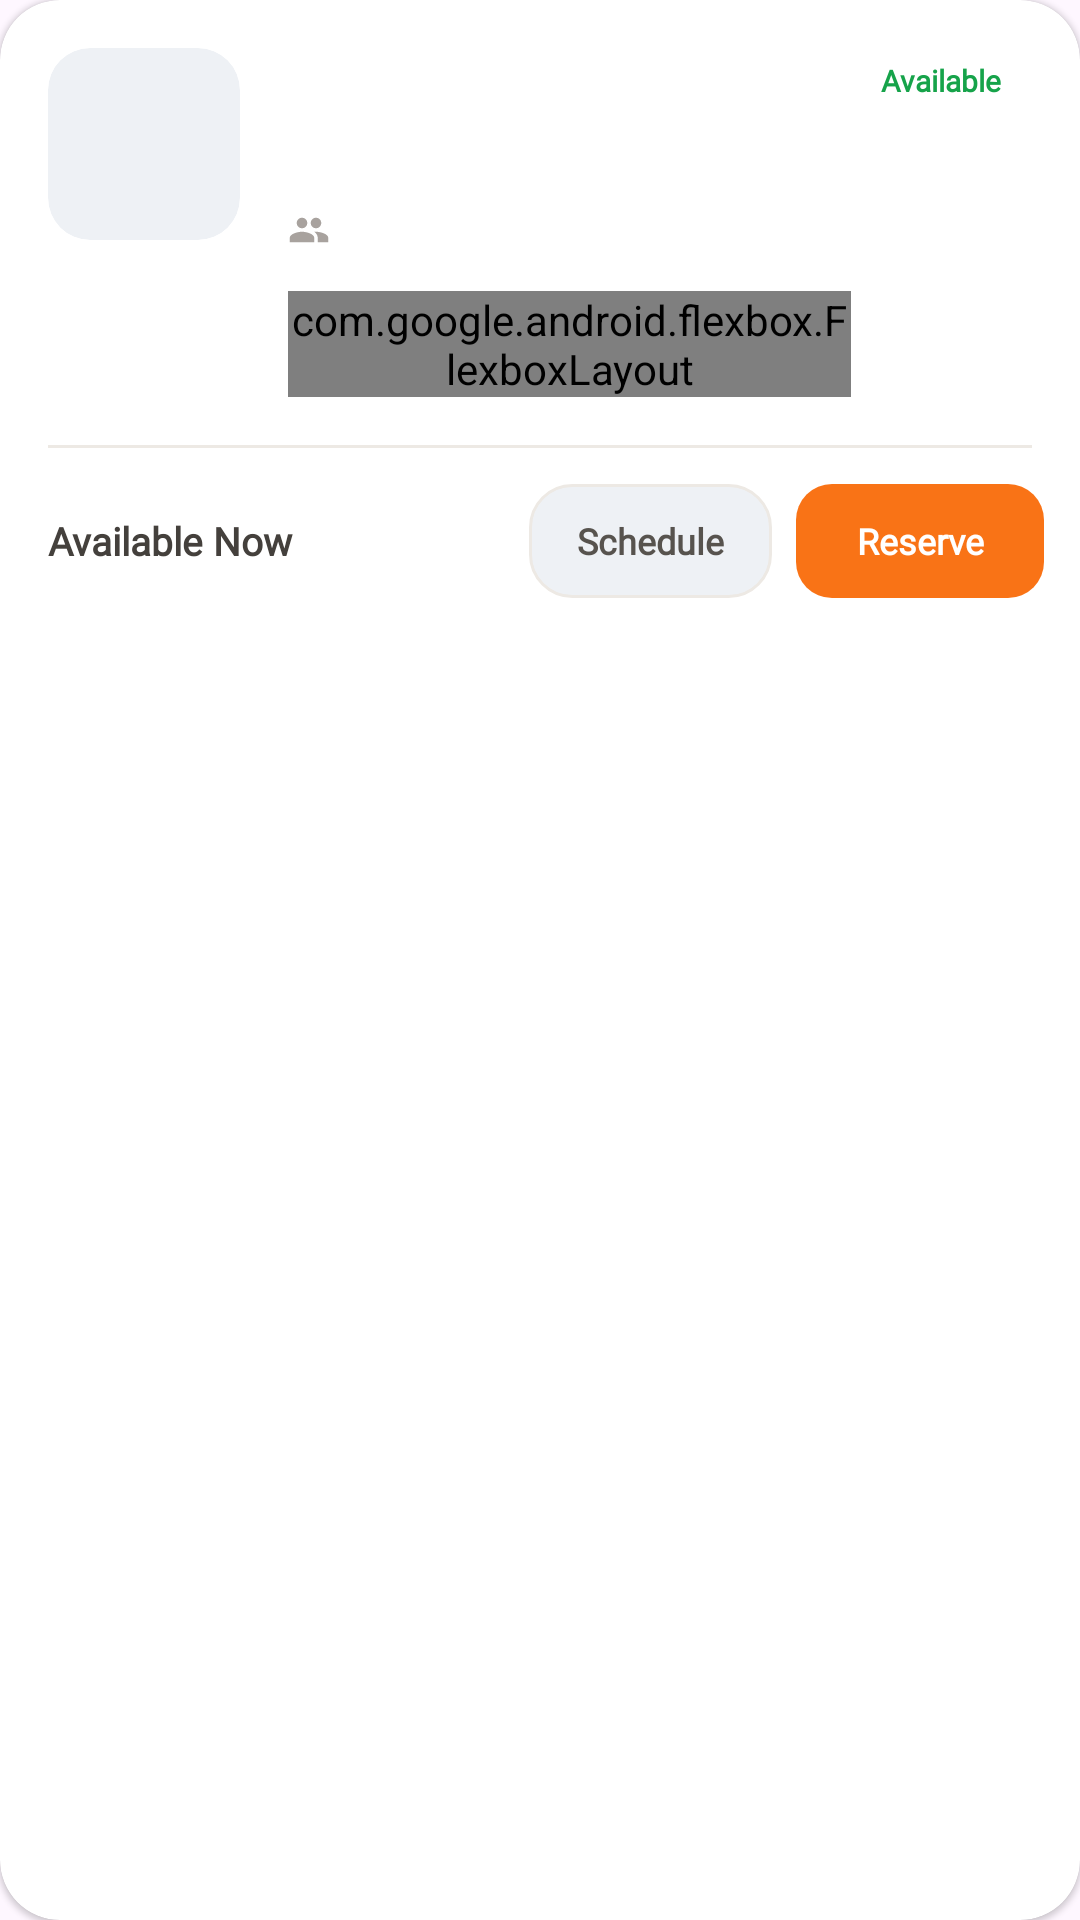

Icons on this 1080x1920 Android screen, each with the point to tap as [x,y]:
capacity: [309,230]
